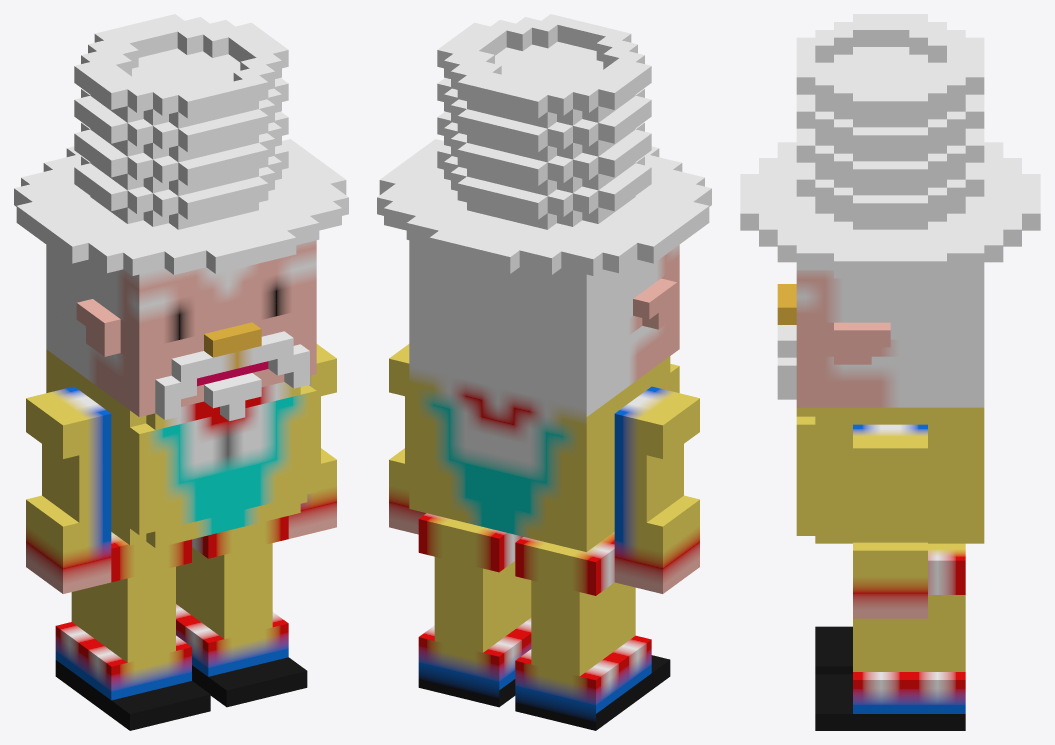
The model's file is Zac.fbx.
The picture shows the model from 3 angles, left to right: view 1: azimuth 30°, elevation 25°; view 2: azimuth 150°, elevation 25°; view 3: azimuth 270°, elevation 25°; orthographic projection.
Parts seen in each view (by area): view 1: Main, RightFoot, LeftFoot, RightHand, LeftHand; view 2: Main, RightFoot, LeftFoot, RightHand, LeftHand; view 3: Main, LeftFoot, LeftHand, RightFoot.
Part boxes in pixels (<box>): Main: <box>14,14,348,548</box>; RightFoot: <box>55,532,210,730</box>; LeftFoot: <box>176,516,307,707</box>; RightHand: <box>26,386,111,593</box>; LeftHand: <box>288,344,336,538</box>; Main: <box>377,14,711,551</box>; RightFoot: <box>515,532,670,730</box>; LeftFoot: <box>418,513,531,707</box>; RightHand: <box>614,386,699,593</box>; LeftHand: <box>389,344,426,534</box>; Main: <box>740,14,1040,543</box>; LeftFoot: <box>815,543,965,730</box>; LeftHand: <box>853,424,927,618</box>; RightFoot: <box>815,626,852,674</box>.
Bounding box in the file's own units: 17 × 37 × 16.
1 material, 1 textured.
